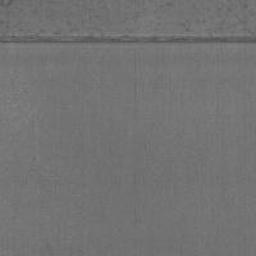Welding line: (0, 33, 256, 45)
